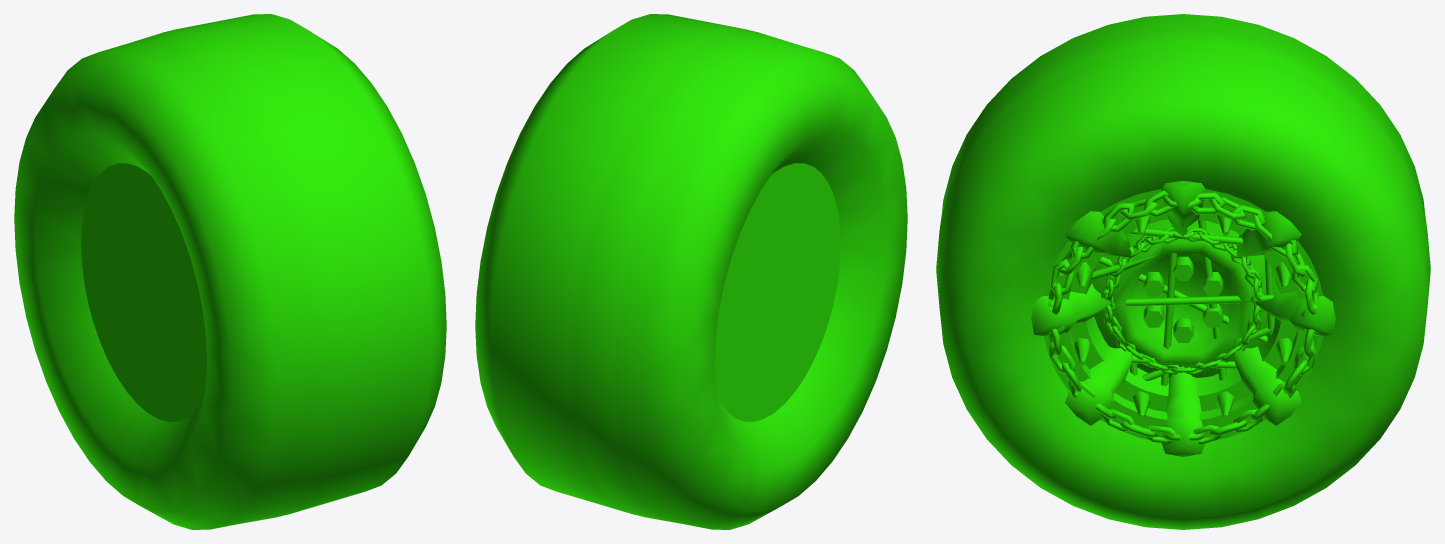
File: Wheels_02.fbx
3 views of the same model, side by side, from view 1: azimuth 30°, elevation 25°; view 2: azimuth 150°, elevation 25°; view 3: azimuth 270°, elevation 25° (orthographic).
Visible parts, largest first — view 1: Wheel_04, Wheel_03, Wheel_01, Wheel_02; view 2: Wheel_04, Wheel_03, Wheel_01, Wheel_02; view 3: Wheel_04, Wheel_01, Wheel_03, Wheel_02.
Boxes of the visible parts, x1=… form: Wheel_04: x1=14, y1=14, x2=446, y2=529; Wheel_03: x1=81, y1=29, x2=355, y2=515; Wheel_01: x1=129, y1=31, x2=346, y2=523; Wheel_02: x1=167, y1=30, x2=351, y2=516; Wheel_04: x1=475, y1=14, x2=907, y2=529; Wheel_03: x1=566, y1=29, x2=840, y2=515; Wheel_01: x1=575, y1=31, x2=792, y2=523; Wheel_02: x1=570, y1=30, x2=831, y2=516; Wheel_04: x1=936, y1=14, x2=1430, y2=529; Wheel_01: x1=936, y1=27, x2=1430, y2=377; Wheel_03: x1=936, y1=46, x2=1430, y2=456; Wheel_02: x1=936, y1=43, x2=1430, y2=385.
Size of what is drawn, in the model's own units: 59.42 by 115 by 115.
